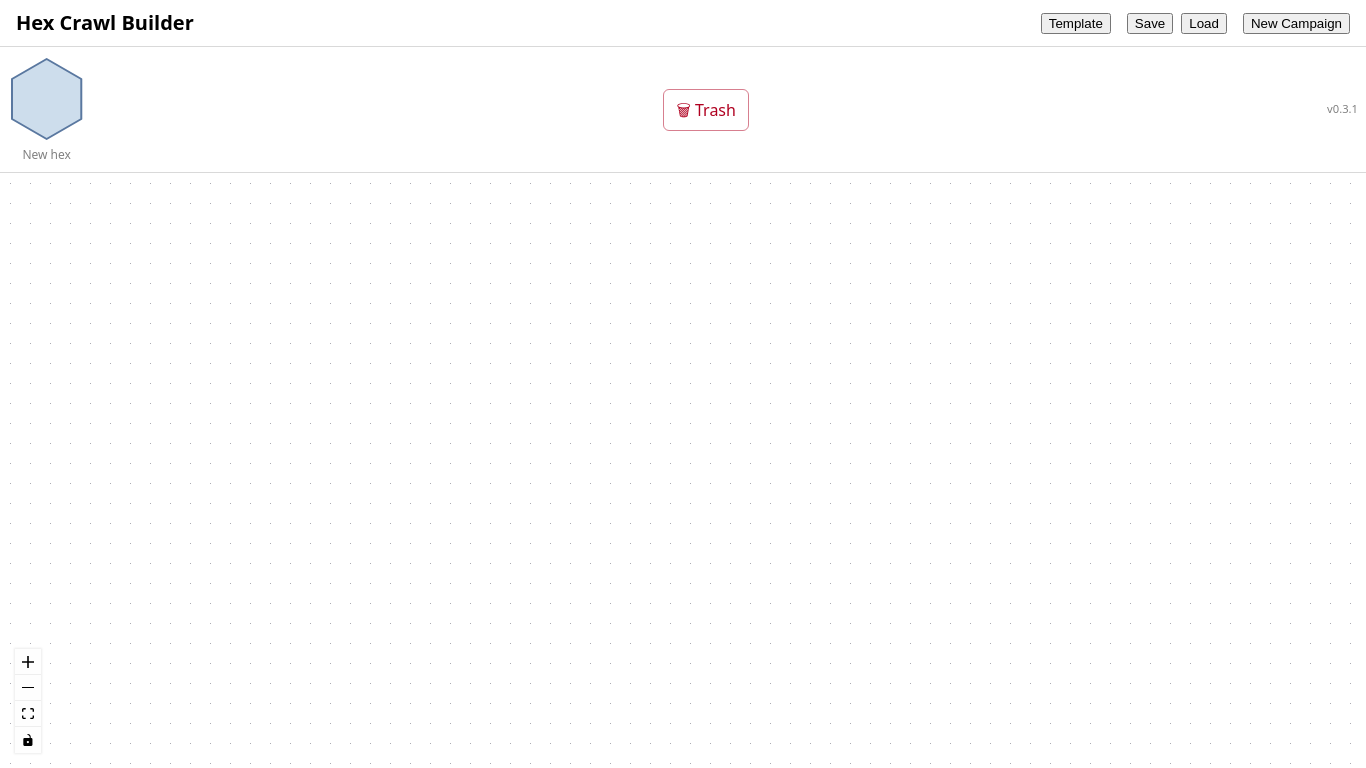
Test: MapScreen › shows confirm dialog when New Campaign is clicked
Click the button "New Campaign": (1296, 23) [1243, 12, 1350, 34]
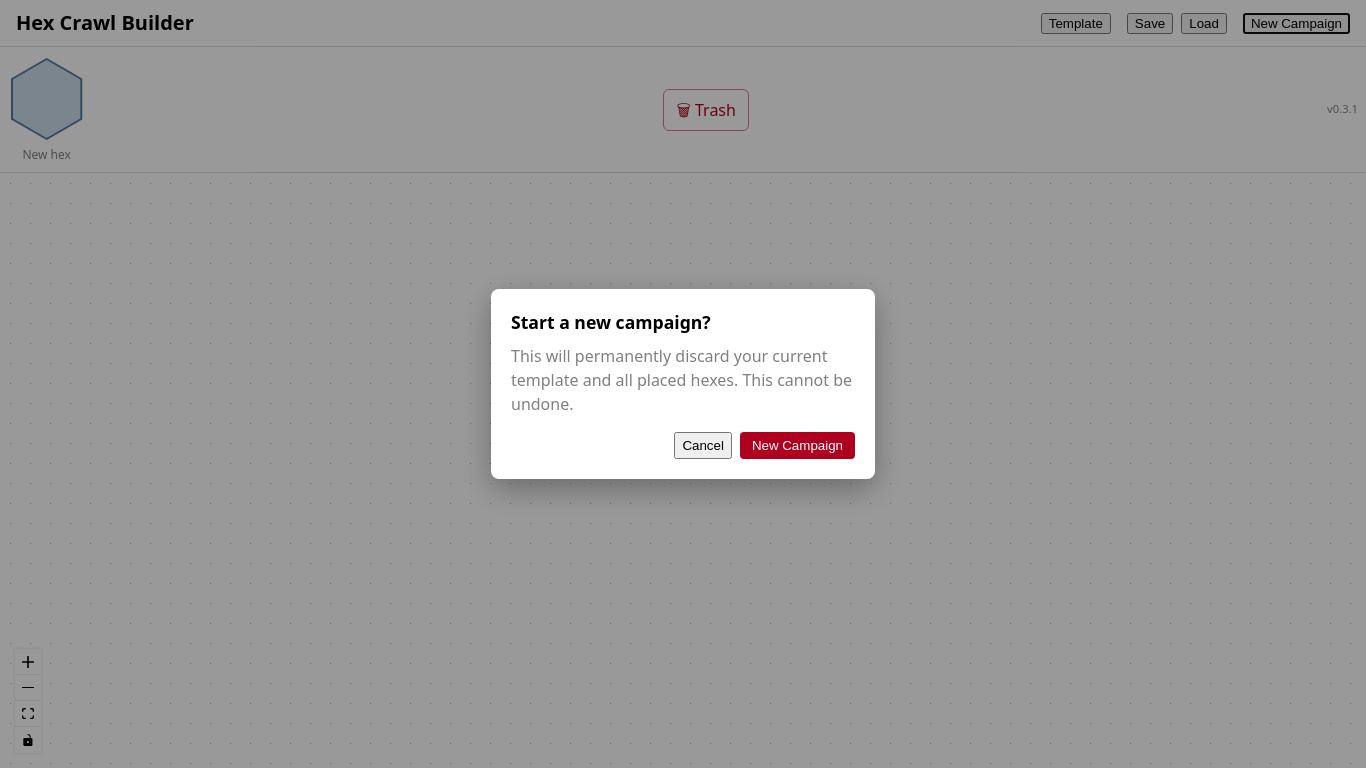
Expected: the dialog "Start a new campaign" is shown, [491, 289, 875, 479]
